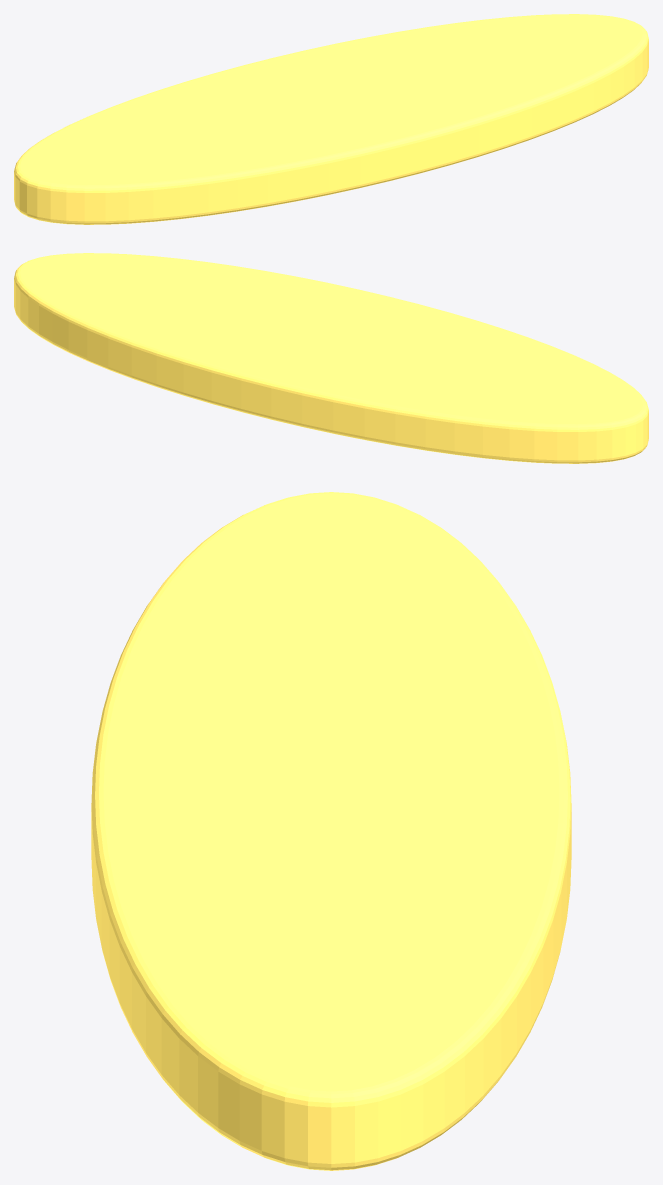
The model's file is SM_UI_ButtonPrimary.glb.
The picture shows the model from 3 angles, top to bottom: view 1: azimuth 30°, elevation 25°; view 2: azimuth 150°, elevation 25°; view 3: azimuth 270°, elevation 25°; orthographic projection. The views are drawn at different scales.
Parts seen in each view (by area): view 1: SM_UI_ButtonPrimary; view 2: SM_UI_ButtonPrimary; view 3: SM_UI_ButtonPrimary.
Part boxes in pixels (x1=…): SM_UI_ButtonPrimary: x1=14, y1=14, x2=648, y2=224; SM_UI_ButtonPrimary: x1=14, y1=253, x2=648, y2=463; SM_UI_ButtonPrimary: x1=91, y1=492, x2=571, y2=1170.
Bounding box in the file's own units: 3 × 0.18 × 1.
